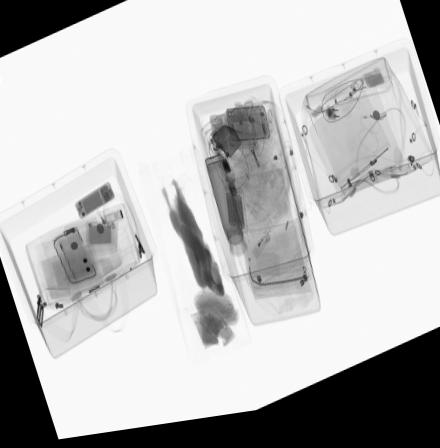Lighter: (250, 234, 272, 268)
